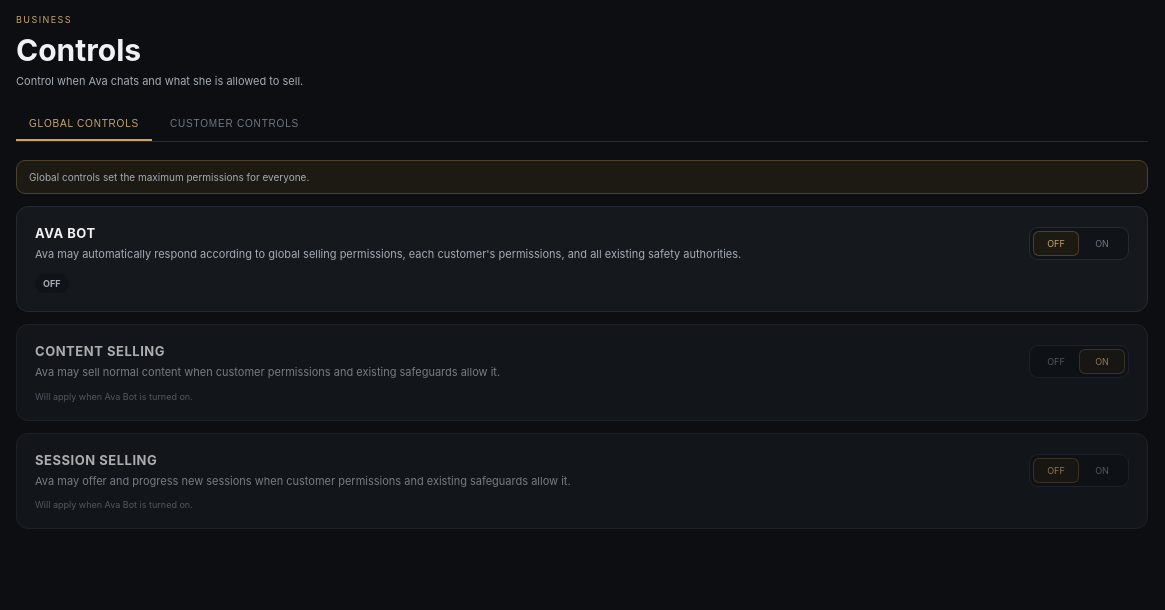
it: Business Controls › does not display a failed global mutation as successful
Click the button "OFF" in the row of "CONTENT SELLING" at x=1056, y=362, box [1033, 349, 1079, 374]
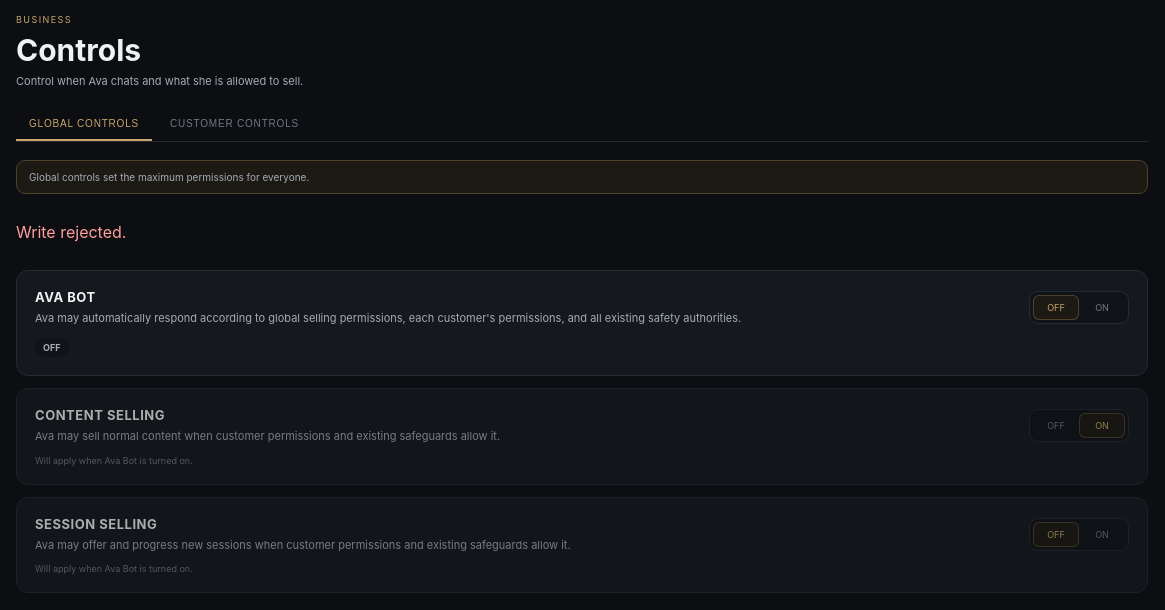
Expected: the button "ON" in the row of "CONTENT SELLING" is shown, [1079, 413, 1125, 438]
Now the message reads "Write rejected.", box [16, 222, 126, 242]
